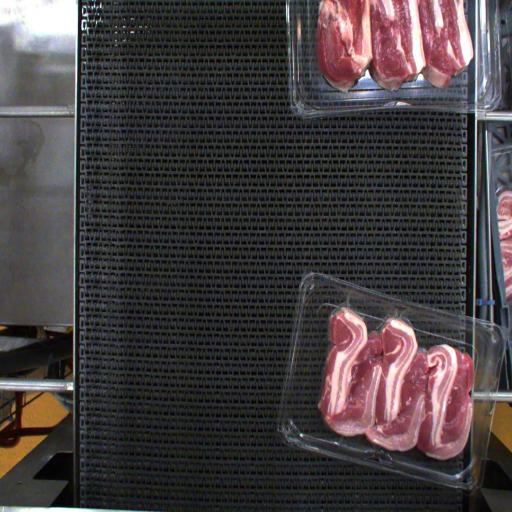packaging-error: (341, 290, 354, 310)
unsealed: (378, 313, 434, 362), (319, 300, 367, 326)
